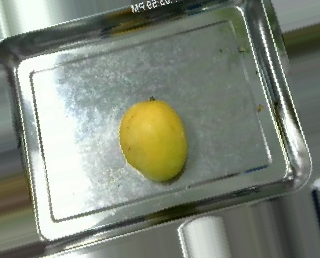Mango: (120, 99, 190, 178)
